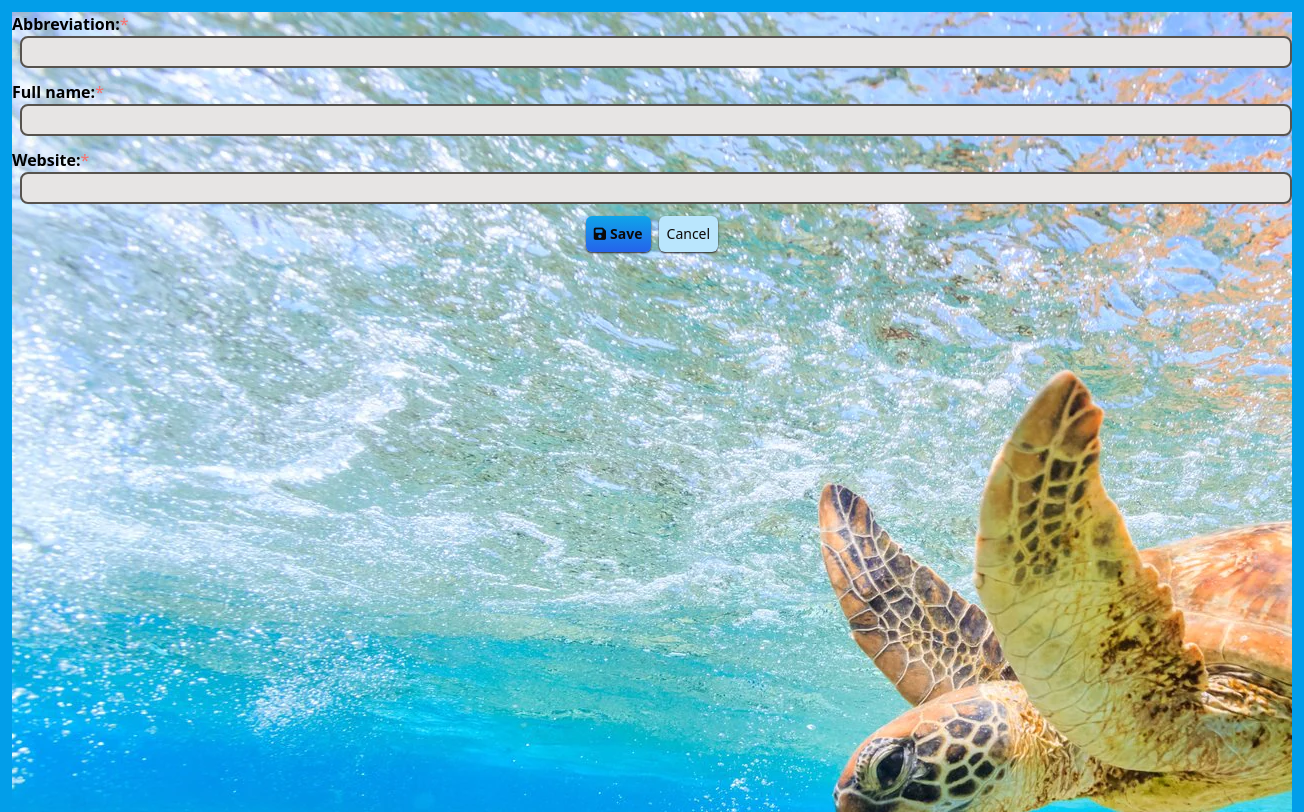
Scenario: EditAgency component › will validate for invalid fields
This screenshot has width=1304, height=812.
Type "Hell nah!" into the field with id "agency-name" at {"x": 656, "y": 52}, box [20,36,1292,68]
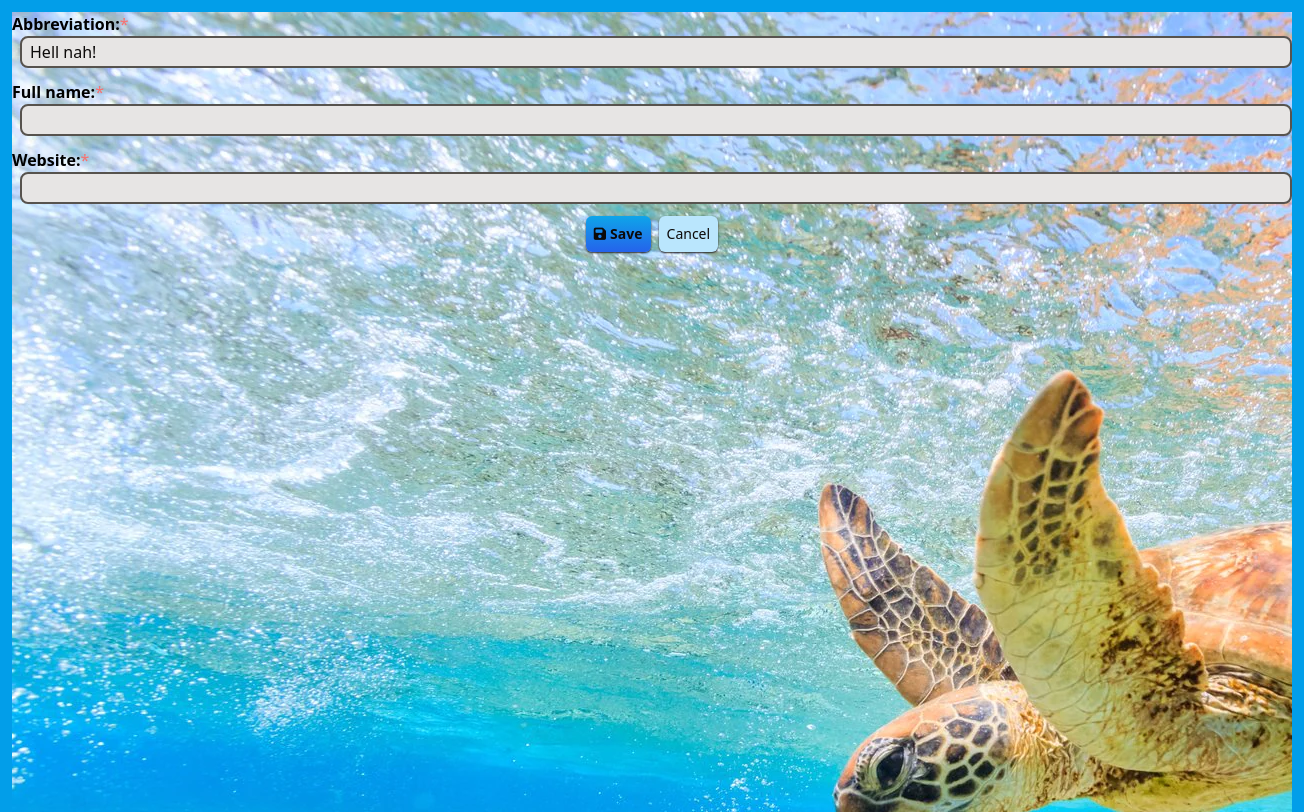
Type "not-a-url" into the field with id "agency-website" at {"x": 656, "y": 188}, box [20,172,1292,204]
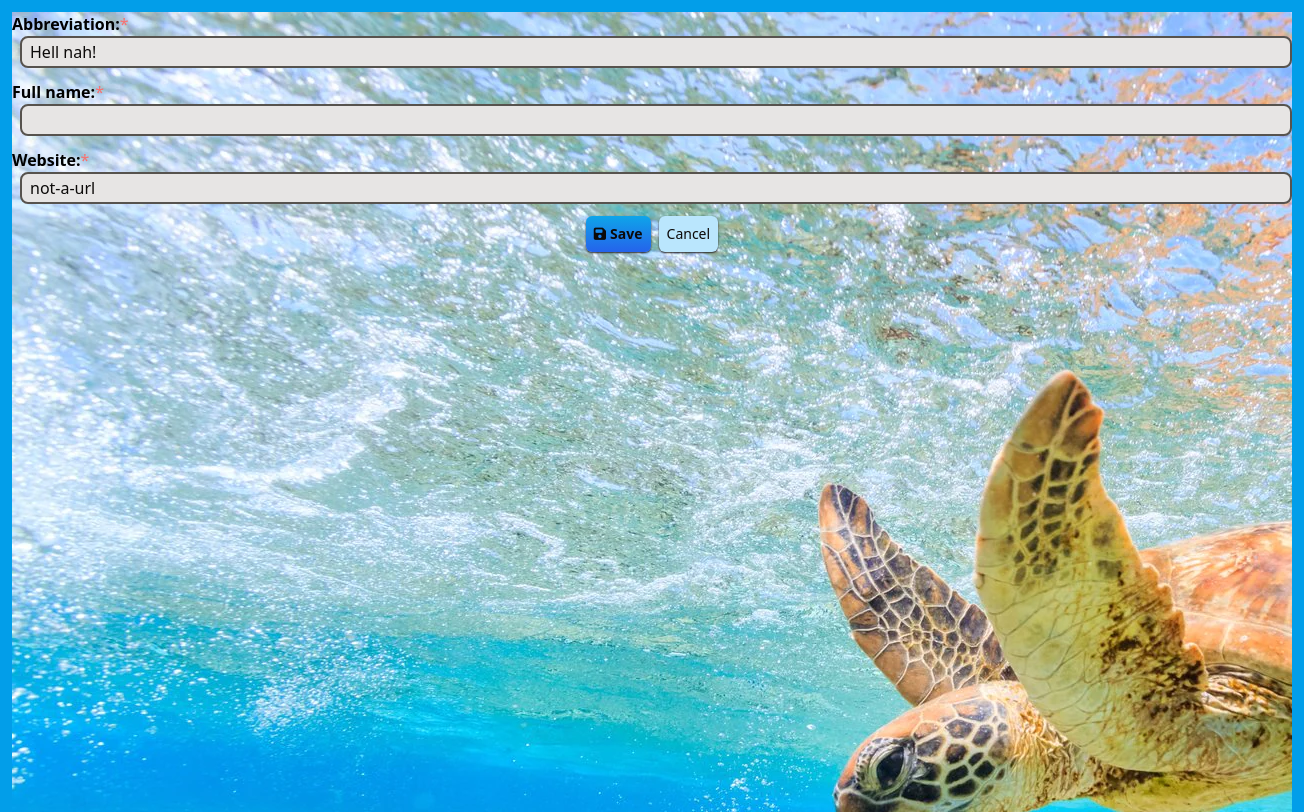
Click the button with id "btn-save-agency" at {"x": 618, "y": 234}, box [586,216,651,252]
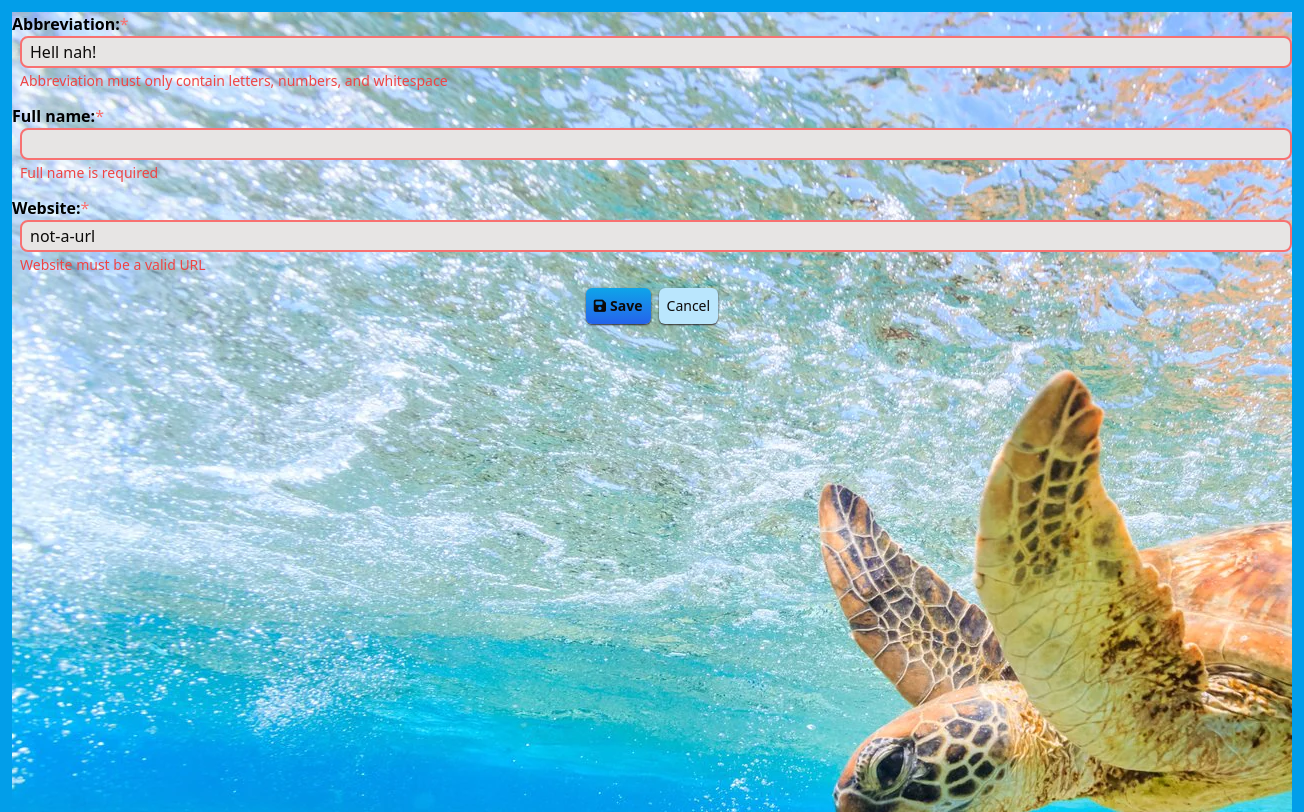
Check: the text with test id "agency-name-error" reads "Abbreviation must only contain letters, numbers, and whitespace", box [20,71,448,90]
Check: the text with test id "agency-website-error" reads "Website must be a valid URL", box [20,255,206,274]
